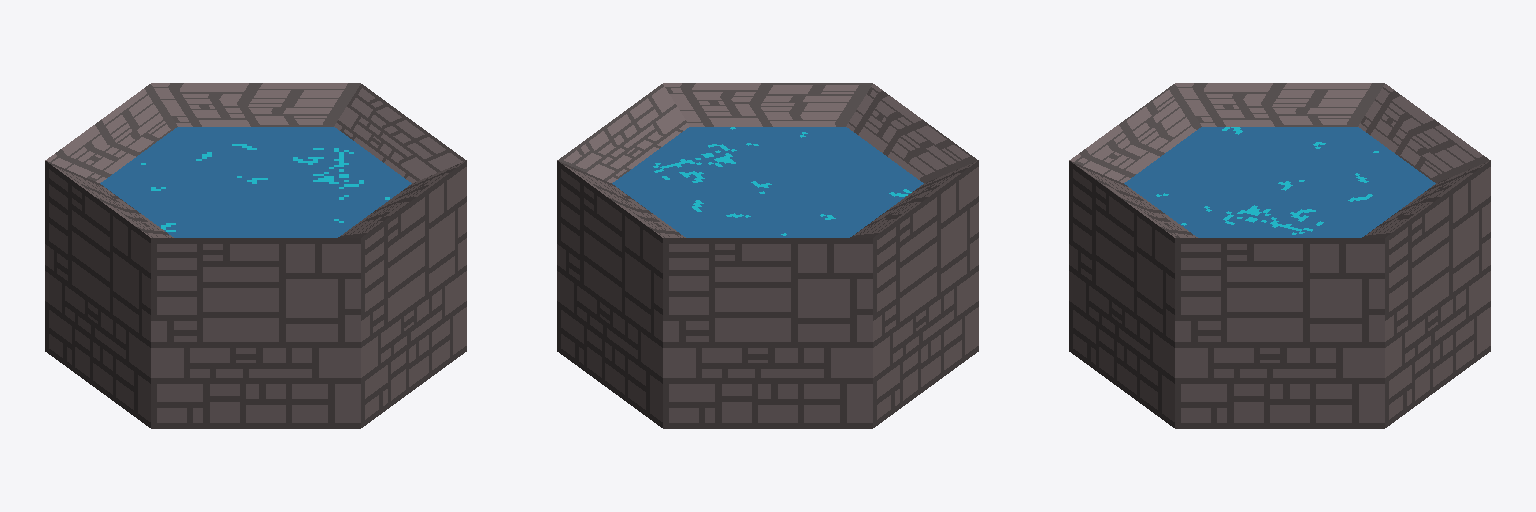
The picture shows the model from 3 angles: view 1: azimuth 30°, elevation 25°; view 2: azimuth 150°, elevation 25°; view 3: azimuth 270°, elevation 25°; orthographic projection.
Parts seen in each view (by area): view 1: Well; view 2: Well; view 3: Well.
Part boxes in pixels (bbox=[...]): Well: bbox=[45, 83, 466, 428]; Well: bbox=[557, 83, 978, 428]; Well: bbox=[1069, 83, 1490, 428].
Bounding box in the file's own units: 1.73 × 1 × 2.
1 materials, 1 textured.